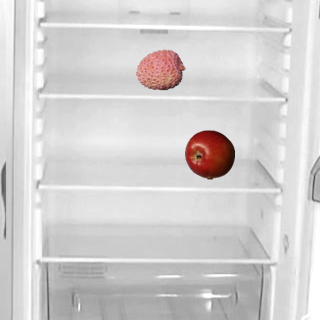Apple Braeburn: (184, 129, 234, 179)
Lychee: (135, 44, 185, 94)
